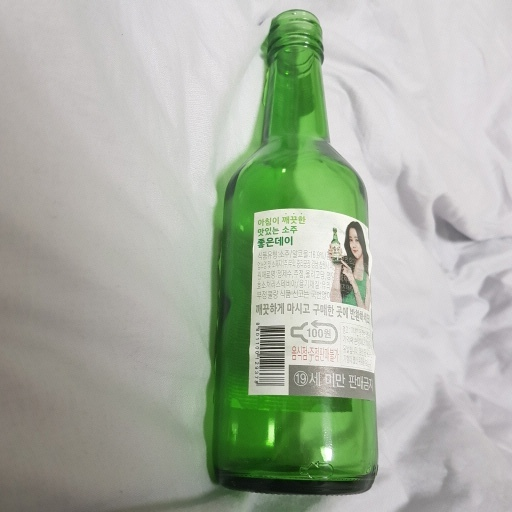Glass_0: (204, 7, 385, 498)
